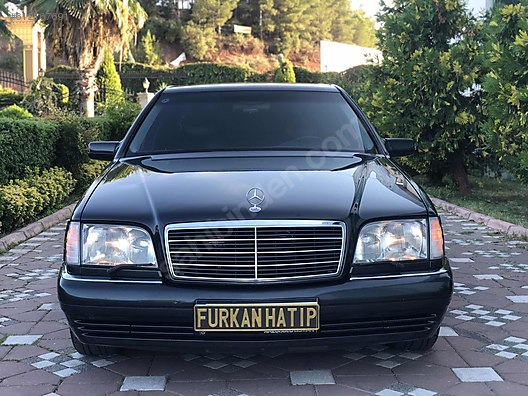m: (53, 79, 461, 362)
